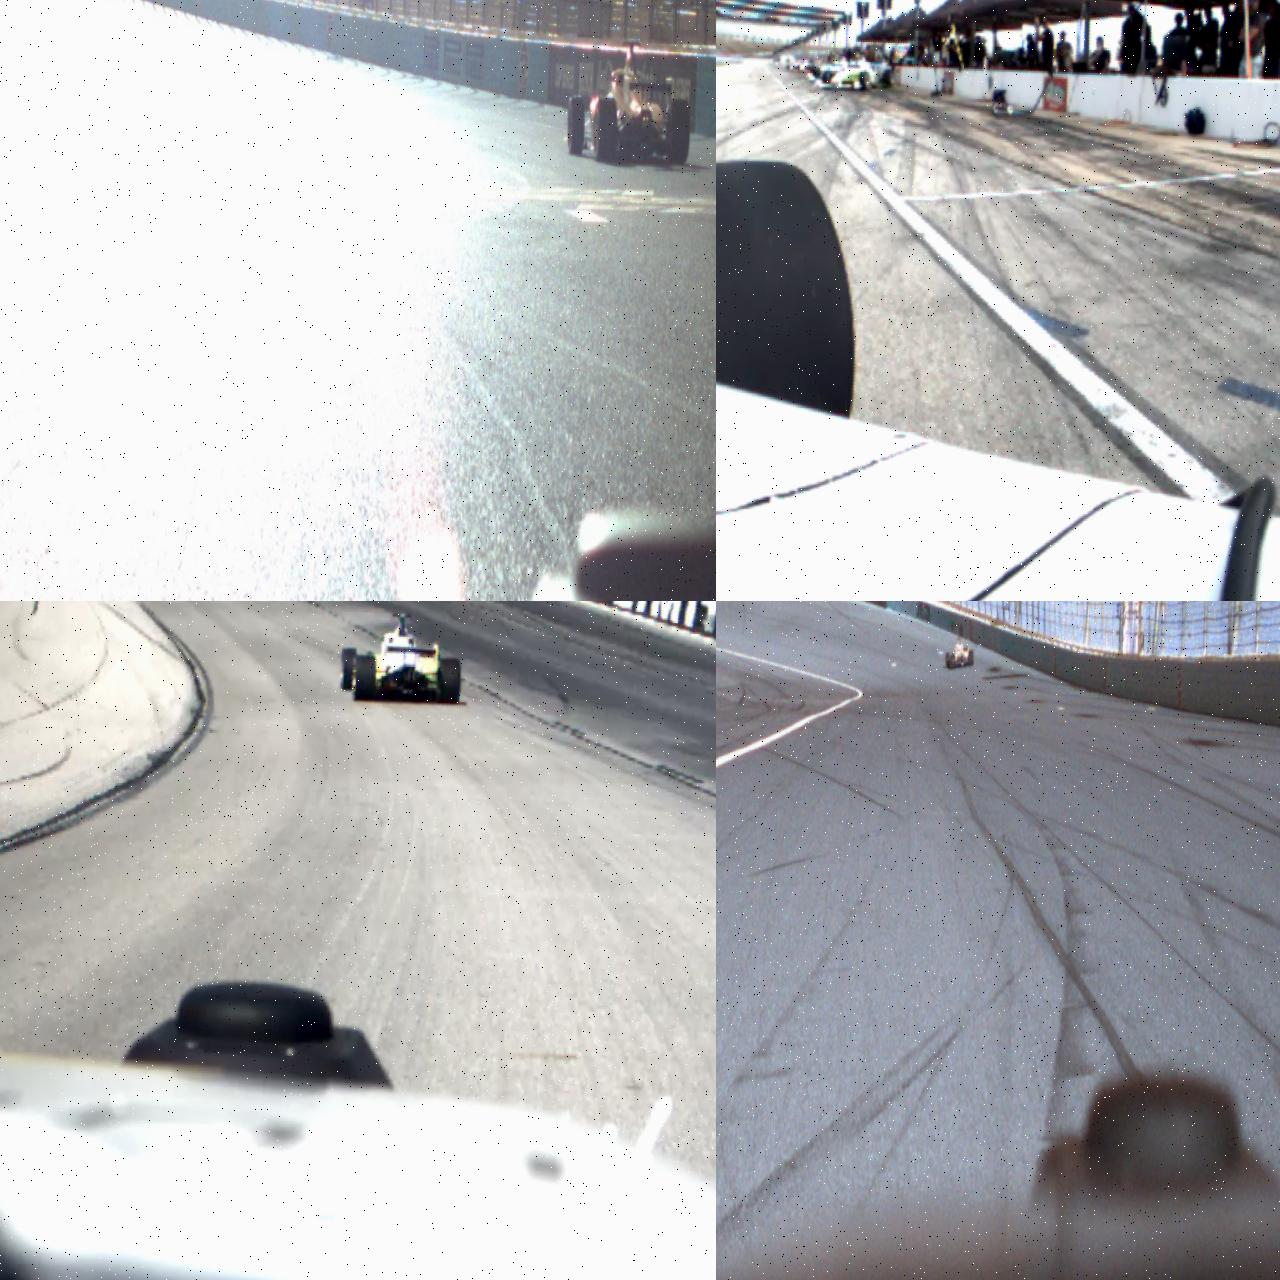AV: (562, 36, 692, 164), (339, 610, 463, 704), (816, 52, 894, 93), (945, 636, 974, 668)
Wheel: (716, 155, 861, 420), (591, 98, 618, 162), (664, 99, 690, 164), (566, 94, 585, 156), (352, 655, 376, 702), (438, 657, 462, 703), (340, 648, 356, 691), (881, 68, 892, 88), (859, 70, 869, 90), (822, 70, 830, 90), (968, 650, 974, 666), (949, 652, 955, 668), (944, 652, 950, 666)
